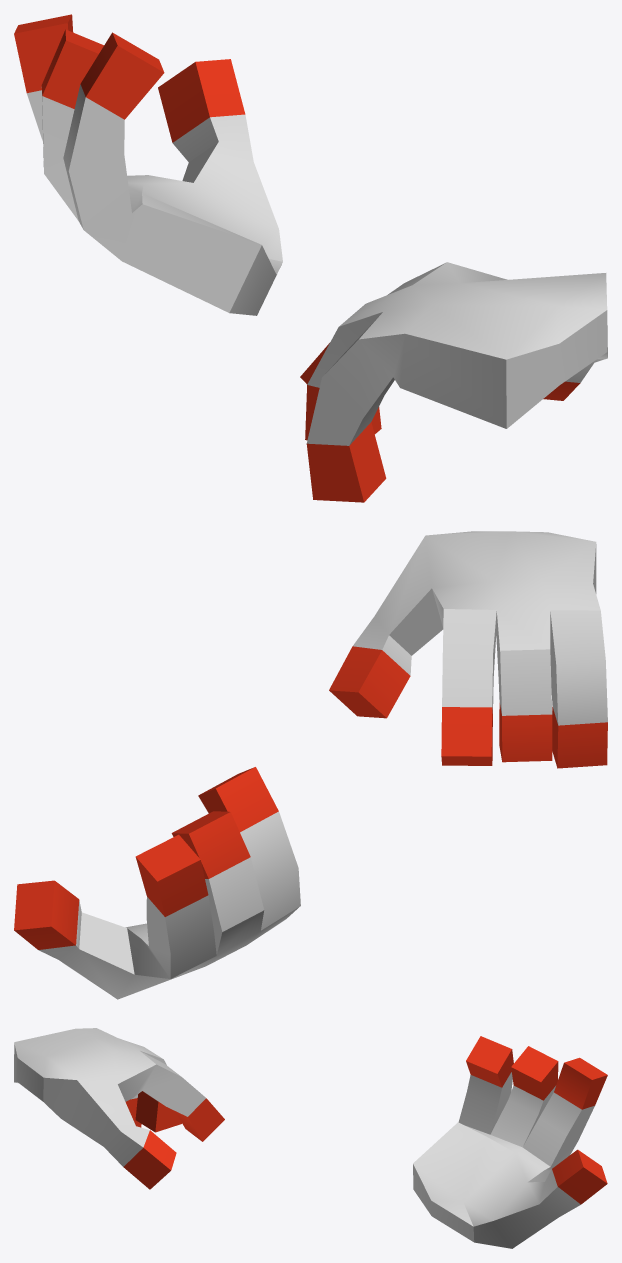
Rendered from RifleHands.fbx.
3 renders of one model, top to bottom at view 1: azimuth 30°, elevation 25°; view 2: azimuth 150°, elevation 25°; view 3: azimuth 270°, elevation 25°, orthographic. The views are drawn at different scales.
Visible parts, largest first — view 1: Cube.034, Cube.035; view 2: Cube.035, Cube.034; view 3: Cube.034, Cube.035.
Boxes of the visible parts, x1,y1,x2,y2 form: Cube.034: (14, 14, 282, 315); Cube.035: (300, 262, 607, 502); Cube.035: (329, 531, 607, 768); Cube.034: (14, 767, 300, 999); Cube.034: (413, 1036, 607, 1248); Cube.035: (14, 1028, 224, 1189).
Bounding box in the file's own units: 87.97 × 77.88 × 242.
